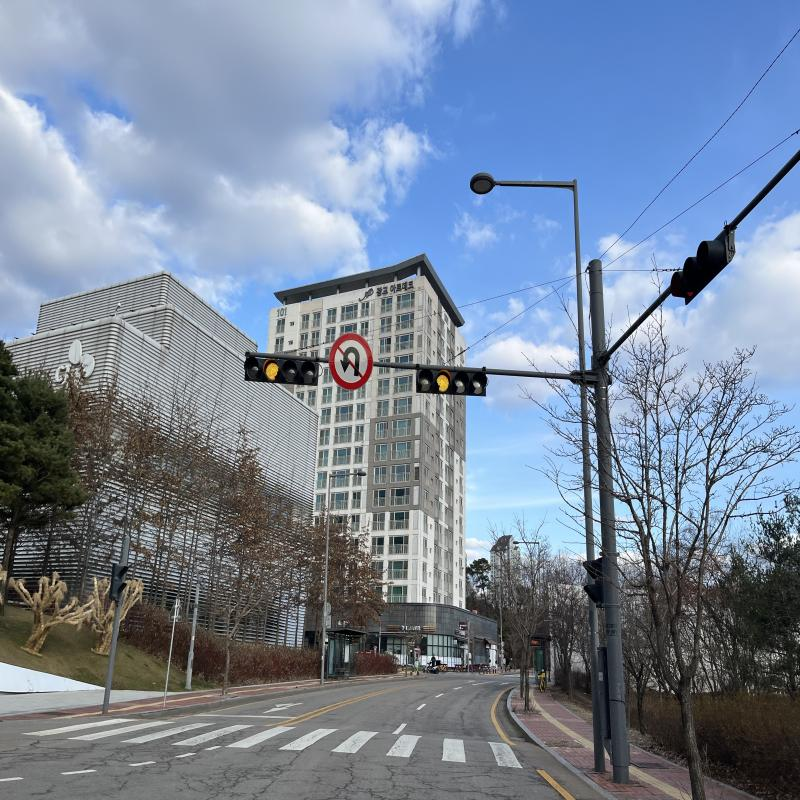yellow: (263, 359, 280, 382), (436, 372, 452, 394)
